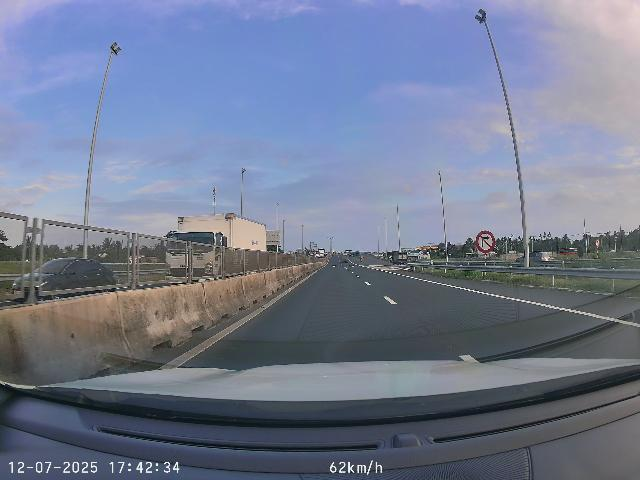123b-cam-re-phai: (475, 230, 496, 253)
